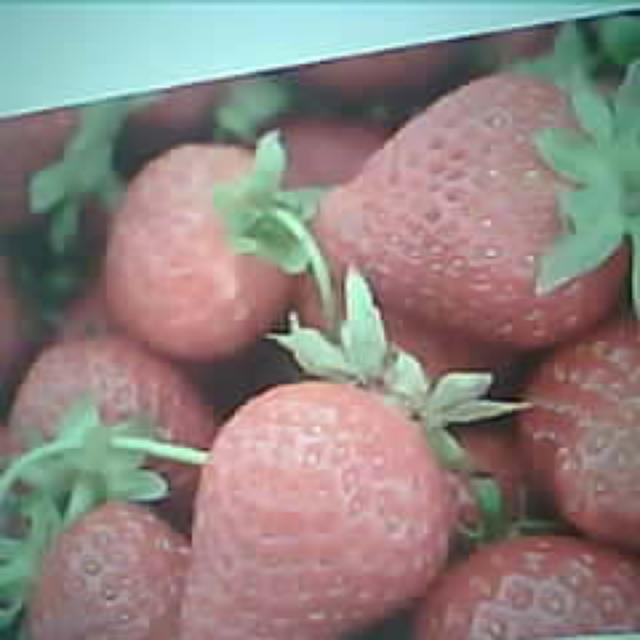strawberry: (316, 75, 632, 346), (183, 384, 450, 640)
